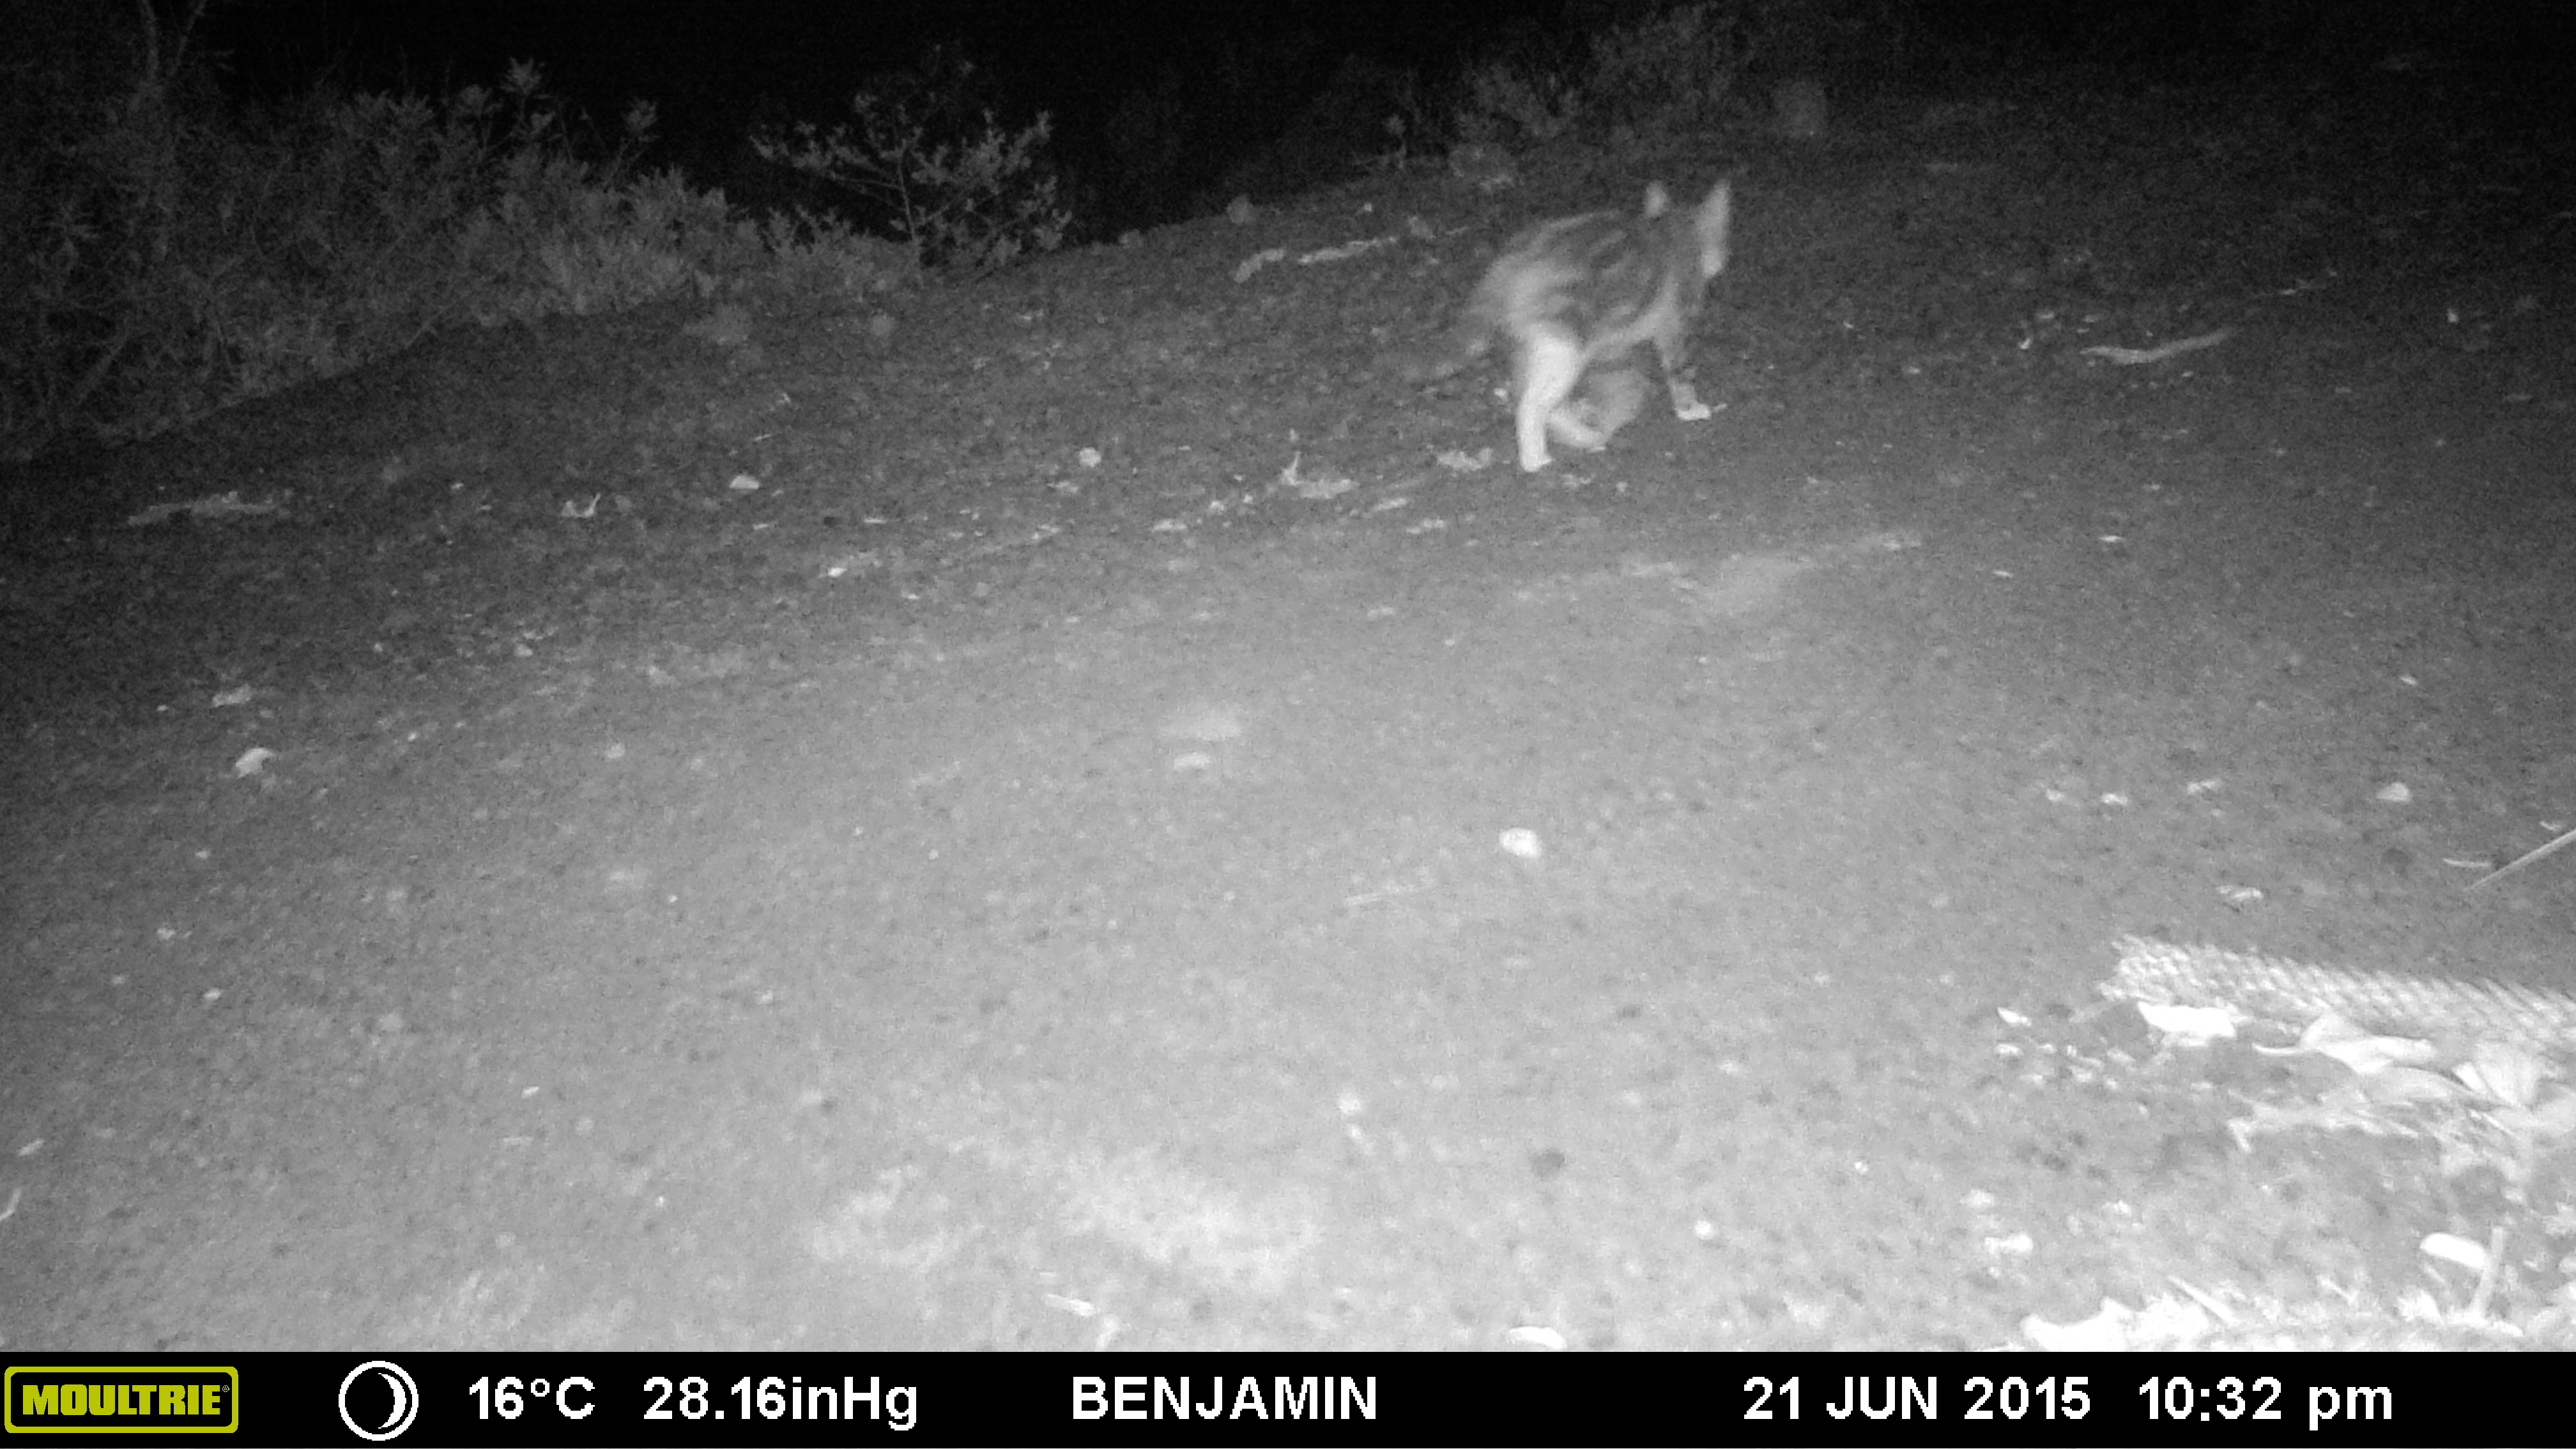cat: (1366, 168, 1759, 520)
